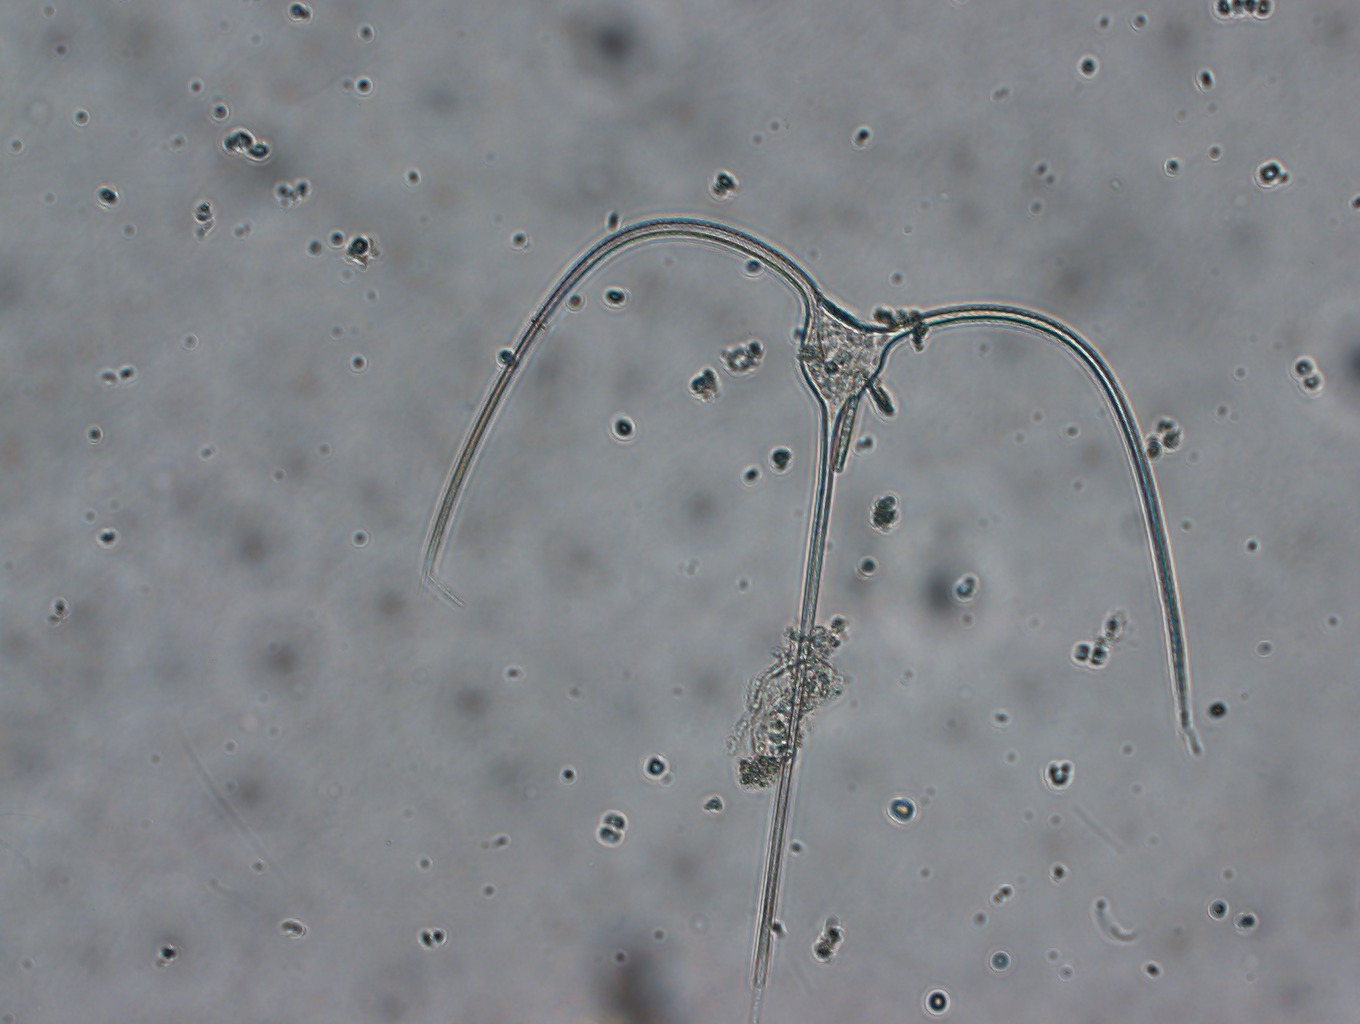ceratium trichoceros: (407, 200, 1211, 1024)
